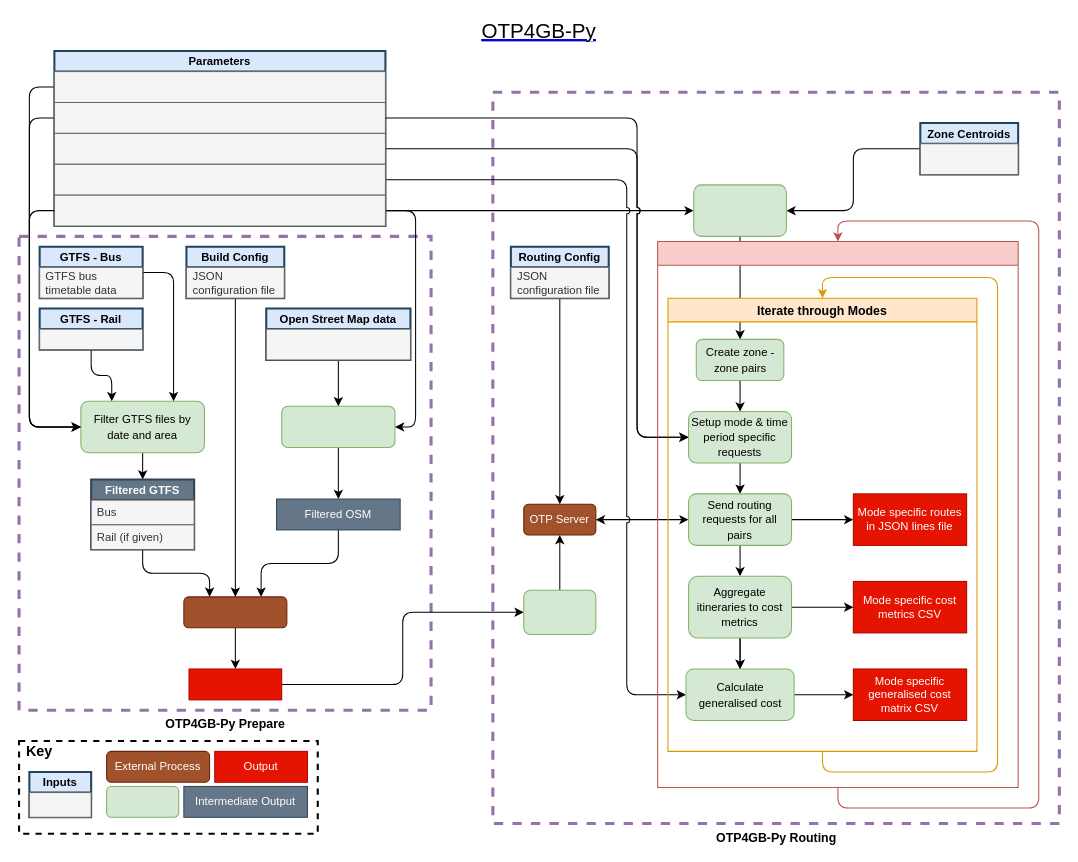
Some shapes in this 1078 by 862 pixel diagram are drawn without their labels. Each missing label, with the centre of its shape:
"Area of interest" goes at [219,210].
"Build OTP Graph" goes at [235,612].
"Centroids of all zones for routing" goes at [968,159].
"Filter OSM data to specific area" goes at [338,426].
"Filter zones to area of interest" goes at [739,210].
"Generalised cost factors" goes at [219,179].
"Input Info" goes at [59,804].
"Iterate through Time Periods" goes at [837,514].
"Modes" goes at [219,148].
"Open street map road, walking and cycling links" goes at [337,344].
"Optional rail data" goes at [91,339].
"OTP Graph" goes at [235,684].
"OTP parameters: date" goes at [219,86].
"Process" goes at [142,801].
"Start OTP Server" goes at [559,611].
"Time periods time and search window" goes at [219,117].
